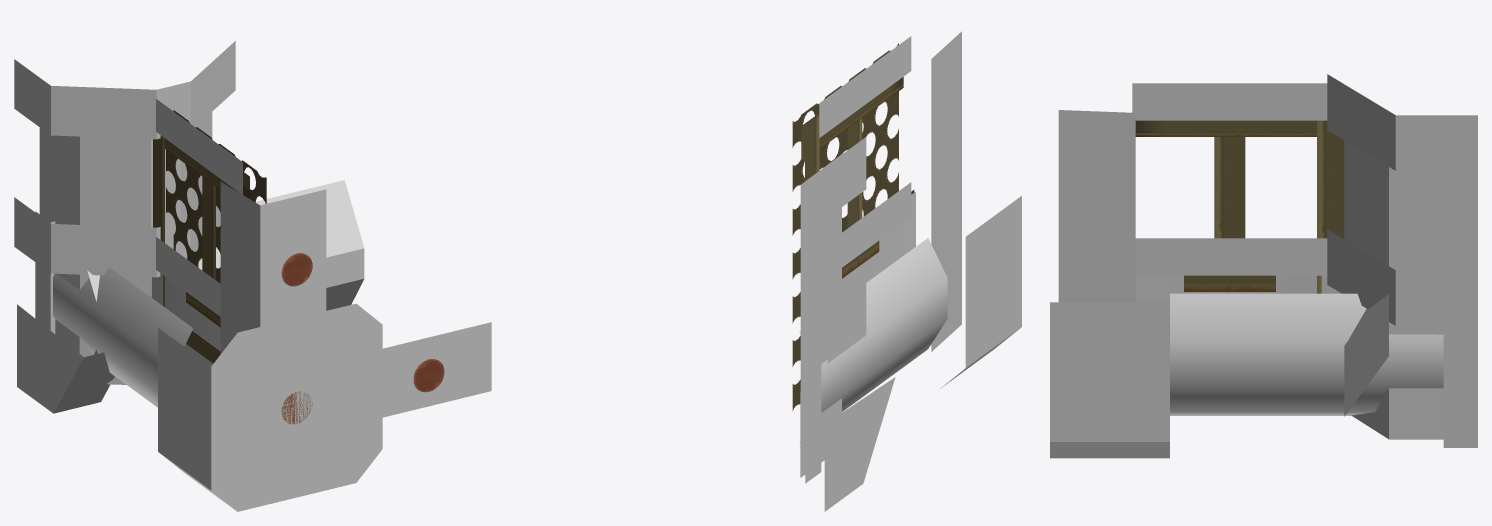
File: fence_high.glb
The picture shows the model from 3 angles, left to right: view 1: azimuth 30°, elevation 25°; view 2: azimuth 150°, elevation 25°; view 3: azimuth 270°, elevation 25°; orthographic projection. The views are drawn at different scales.
Parts seen in each view (by area): view 1: rsrc.world.tileset.clockworks_shock.fence.fence_high-Variant (×17); view 2: rsrc.world.tileset.clockworks_shock.fence.fence_high-Variant (×12); view 3: rsrc.world.tileset.clockworks_shock.fence.fence_high-Variant (×12).
Boxes of the visible parts, x1,y1,x2,y2 form: rsrc.world.tileset.clockworks_shock.fence.fence_high-Variant (×17): (14, 41, 491, 511); rsrc.world.tileset.clockworks_shock.fence.fence_high-Variant (×12): (792, 31, 1021, 511); rsrc.world.tileset.clockworks_shock.fence.fence_high-Variant (×12): (1050, 74, 1477, 458).
Bounding box in the file's own units: 2.2 × 2.38 × 2.5.
Materials: 4 (3 with a texture image).
